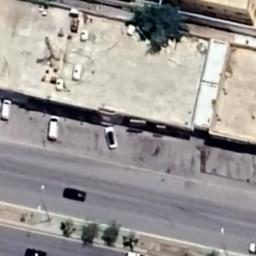SUV: (104, 124, 122, 150), (44, 115, 60, 141), (0, 96, 12, 124)
sedan: (59, 182, 91, 206)
